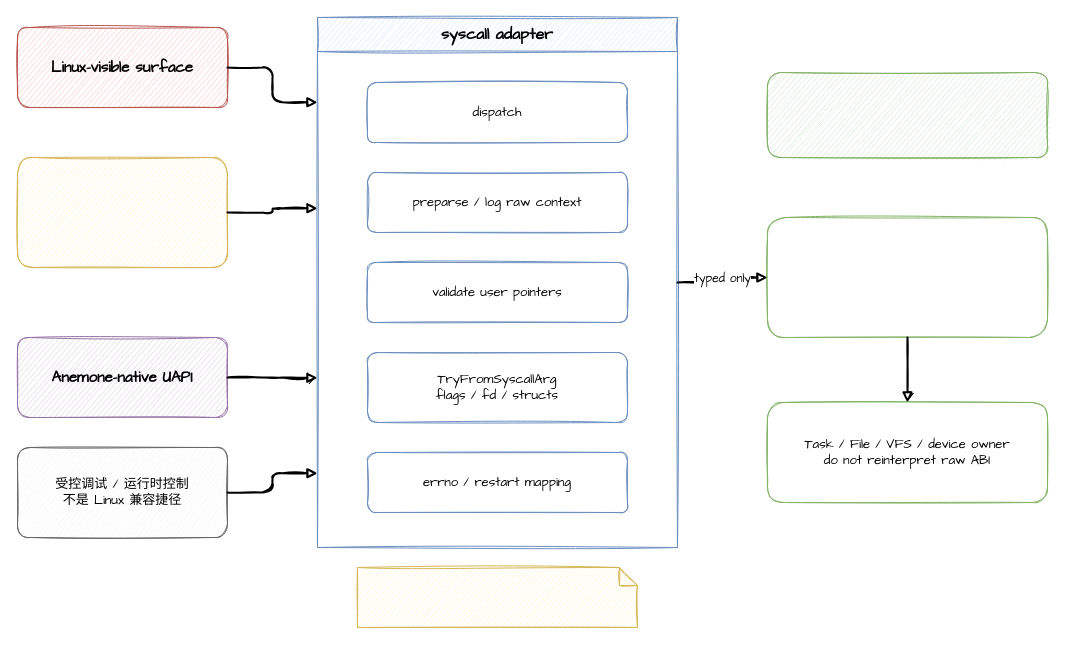
The diagram is 1065 pixels wide and 645 high, and some of its shapes have lost their labels. The centre of each missing label's shape, as x and y in pixels:
ABI noise stays here: pixel 497 597
internal owner boundary: pixel 907 115
syscall number raw registers Linux flags / errno: pixel 122 212
typed intent owner-local ctx UserReadPtr / UserWritePtr: pixel 907 277
